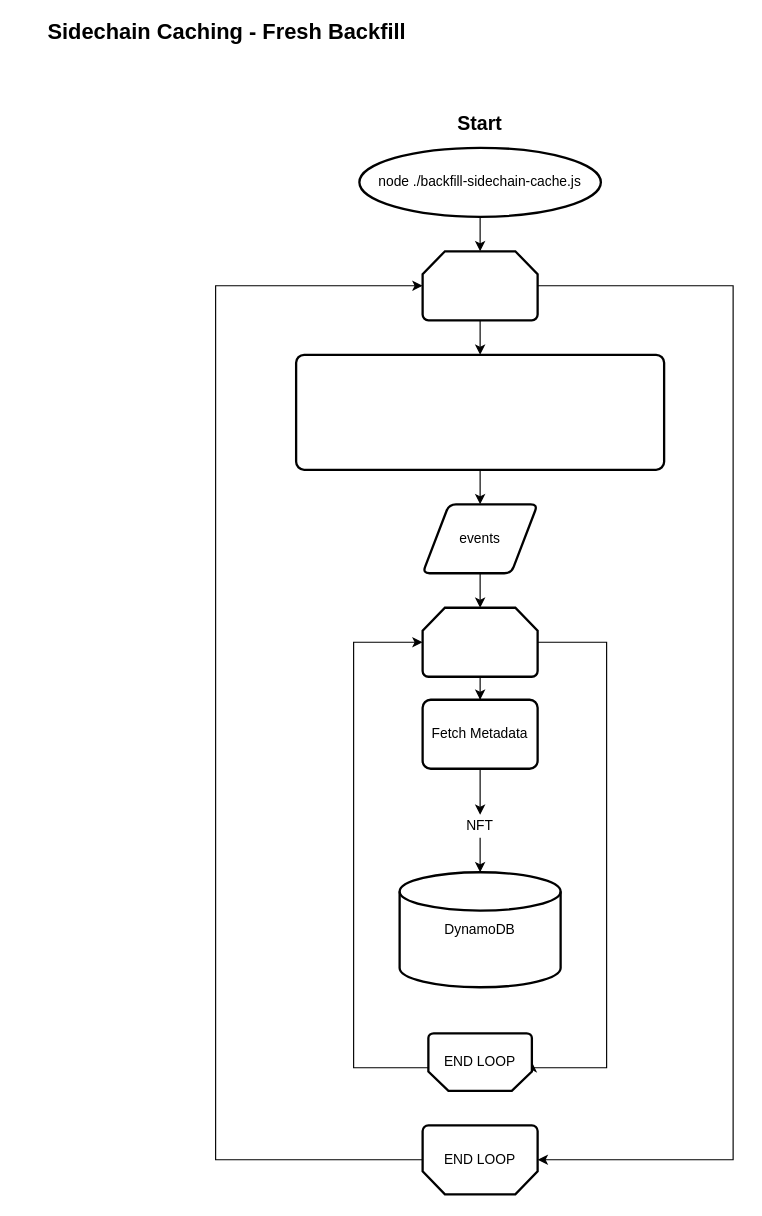
This 762x1216 diagram has some shape labels left out. The shapes that lost their labels are listed below. From the top down, each one's centre as x and y in pixels, then its label:
the point at 479,285: FOR EACH NETWORK
the point at 479,411: web3.getPastEvents({fromBlock: 0, toBlock: latest})
the point at 479,641: FOR EACH EVENT
